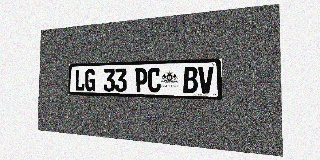3: (115, 68, 127, 92), (104, 69, 115, 92)
B: (183, 67, 198, 93)
C: (148, 68, 161, 93)
G: (85, 69, 96, 91)
L: (75, 69, 85, 91)
P: (135, 68, 147, 92)
V: (198, 66, 214, 94)
